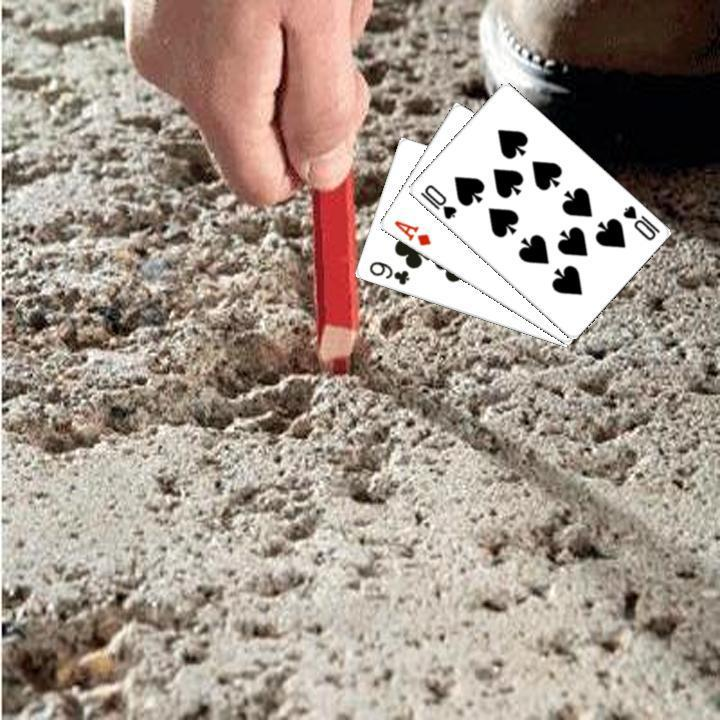10: (618, 201, 662, 243), (415, 180, 458, 221)
9: (364, 257, 412, 287)
A: (389, 216, 433, 248)
